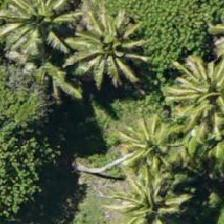coconut_tree: (60, 4, 150, 94), (108, 99, 198, 189), (105, 160, 195, 223), (0, 0, 82, 62), (167, 41, 223, 131)
